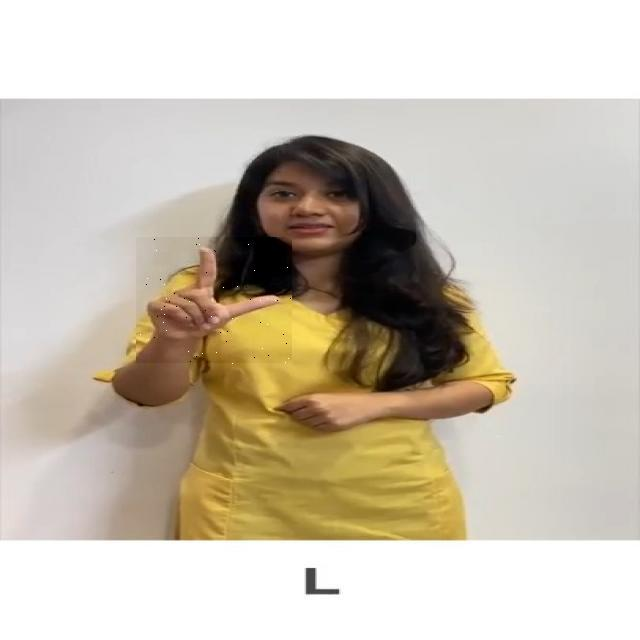L: (136, 238, 292, 366)
